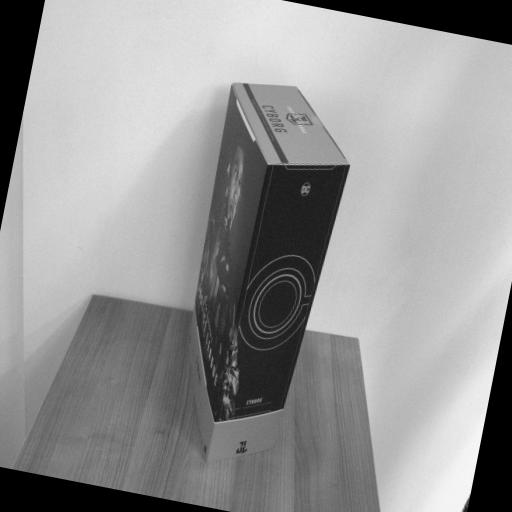Cyborg: (159, 73, 364, 483)
